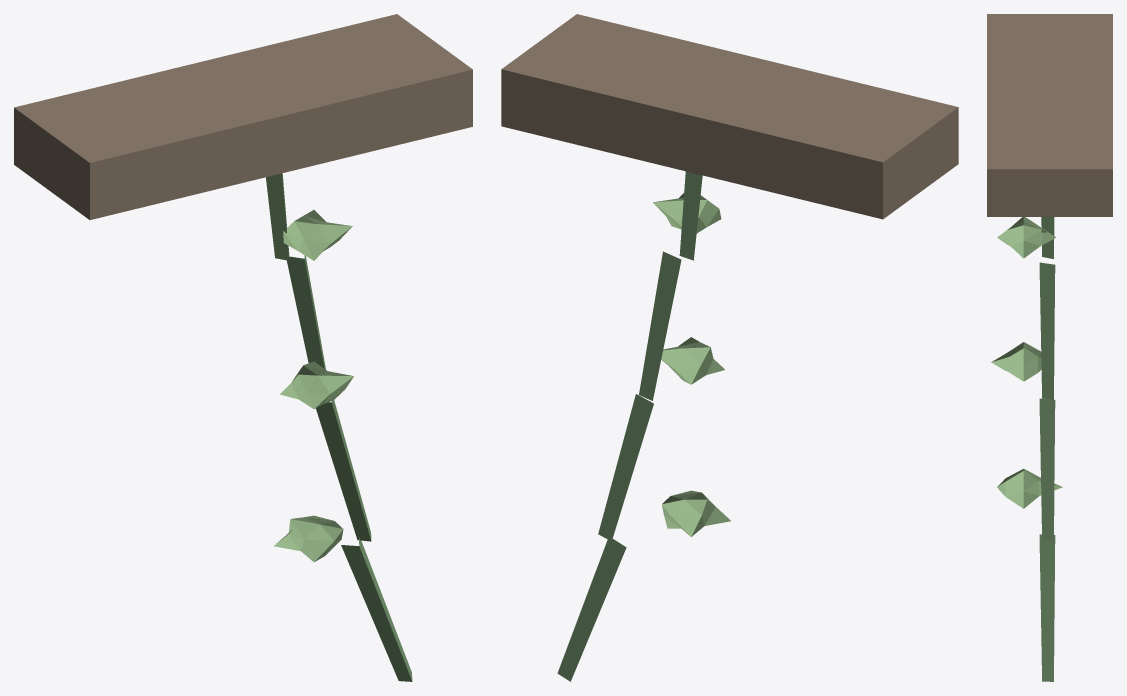
The model's file is vine_v36.glb.
The picture shows the model from 3 angles, left to right: view 1: azimuth 30°, elevation 25°; view 2: azimuth 150°, elevation 25°; view 3: azimuth 270°, elevation 25°; orthographic projection. The views are drawn at different scales.
Parts seen in each view (by area): view 1: lod0; view 2: lod0; view 3: lod0.
Part boxes in pixels (x1,y1,x2,y2): lod0: (14, 14, 472, 681); lod0: (501, 14, 958, 681); lod0: (987, 14, 1112, 681).
Size of what is drawn, in the model's own units: 0.7 by 1.1 by 0.24.
